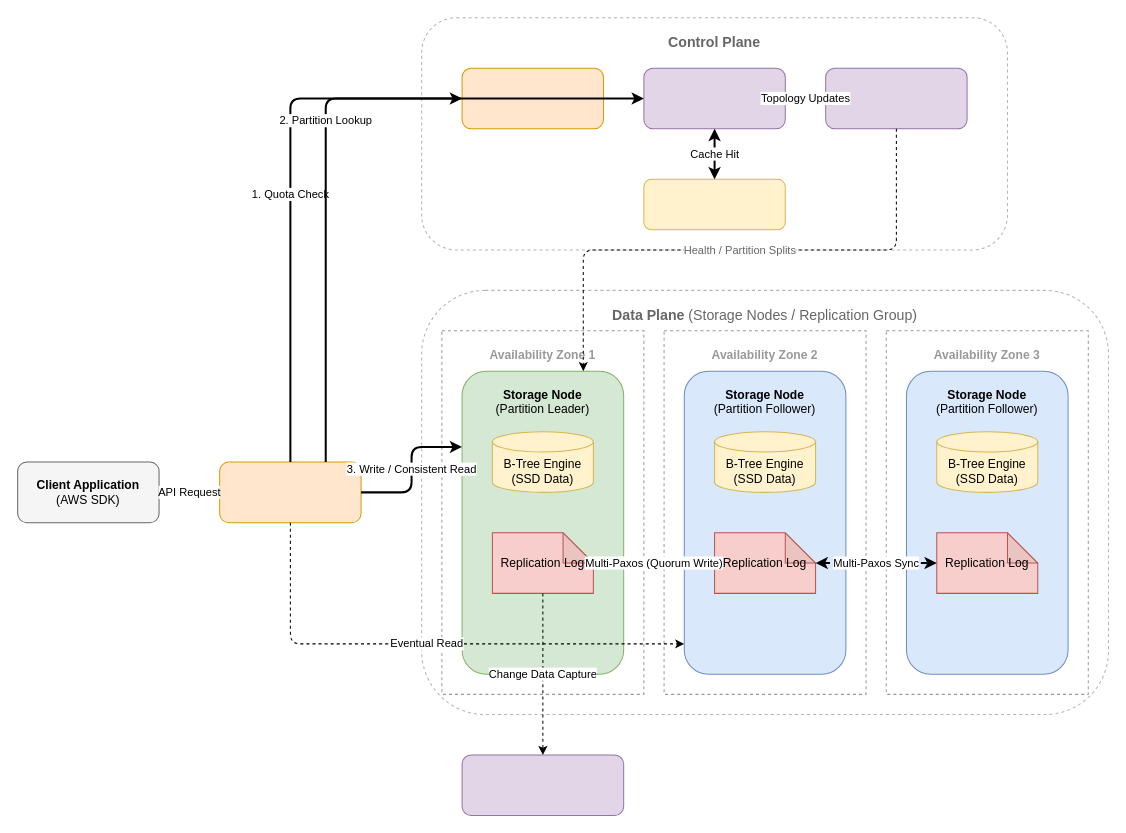
Some shapes in this 1126 by 833 pixel diagram are drawn without their labels. The centre of each missing label's shape, as x and y in pixels:
AutoAdmin Service [Central Nervous System]: the point at 896,98
DynamoDB Streams (Log Propagator): the point at 542,785
Global Admission Control [Token Buckets/Adaptive]: the point at 532,98
MemDS (In-Memory Cache): the point at 714,204
Metadata Service [Partition Lookups]: the point at 714,98
Request Router (Traffic Controller): the point at 290,492
